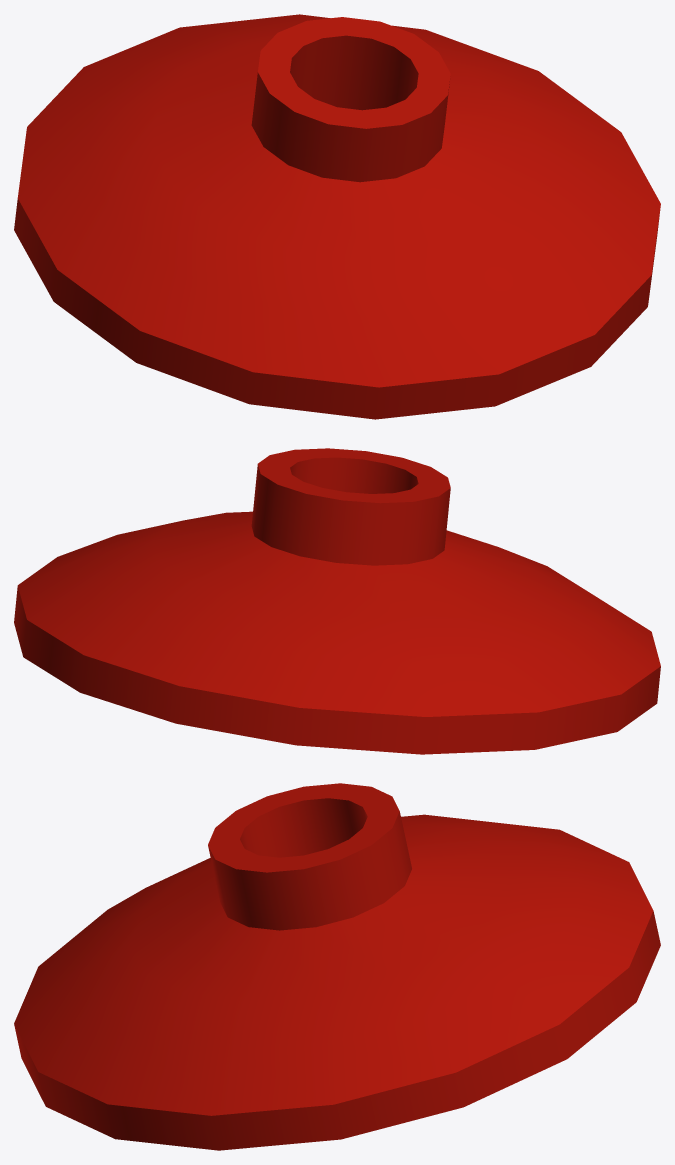
File: 4740_dish_radar.glb
The picture shows the model from 3 angles, top to bottom: view 1: azimuth 30°, elevation 25°; view 2: azimuth 150°, elevation 25°; view 3: azimuth 270°, elevation 25°; orthographic projection.
Visible parts, largest first — view 1: 4740.dat.001; view 2: 4740.dat.001; view 3: 4740.dat.001.
Boxes of the visible parts, x1,y1,x2,y2 form: 4740.dat.001: (14,14,660,419); 4740.dat.001: (14,448,660,754); 4740.dat.001: (14,783,660,1150).
Bounding box in the file's own units: 2.31 × 0.9691 × 2.3.
